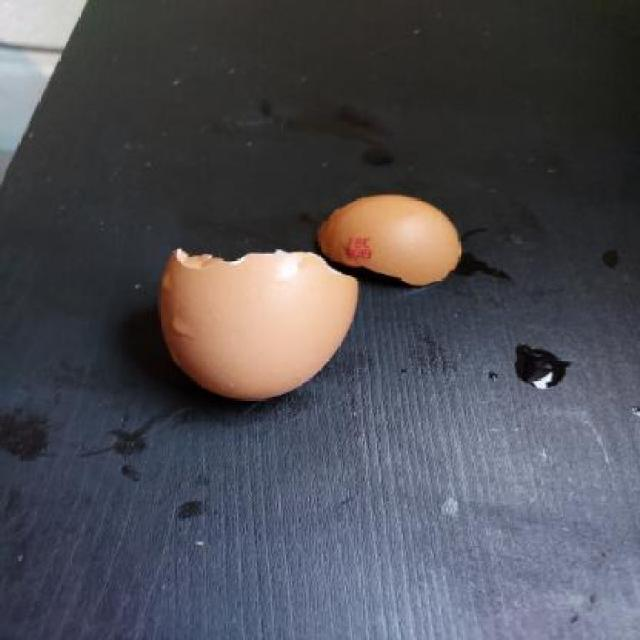biodegradable: (144, 250, 358, 407), (318, 188, 469, 288)
